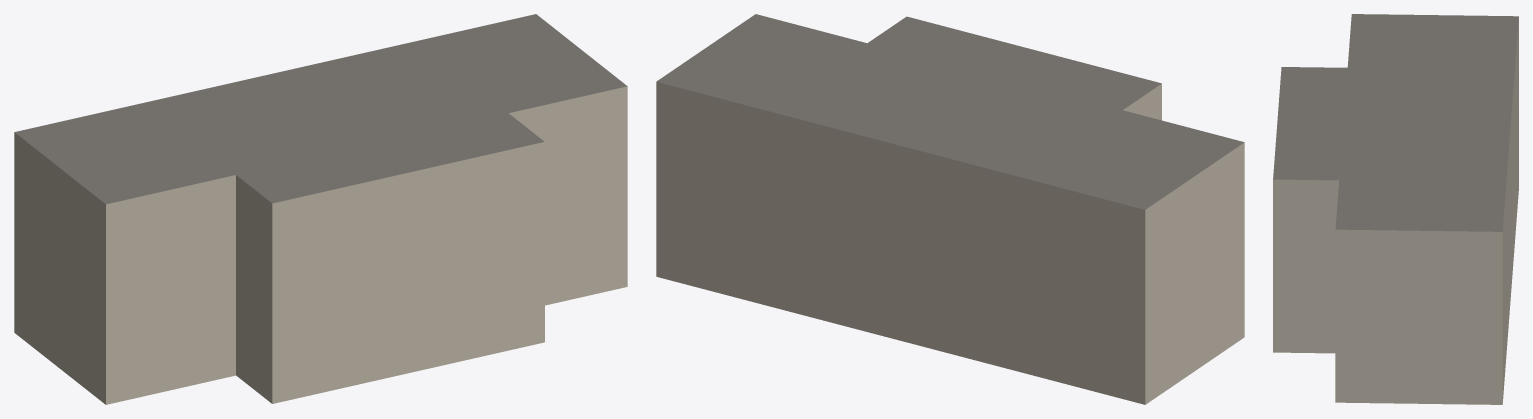
3 renders of one model, left to right at view 1: azimuth 30°, elevation 25°; view 2: azimuth 150°, elevation 25°; view 3: azimuth 270°, elevation 25°, orthographic. The views are drawn at different scales.
Visible parts, largest first — view 1: HP-w859488925; view 2: HP-w859488925; view 3: HP-w859488925.
Part boxes in pixels (left/top/right/bottom): HP-w859488925: left=14, top=14, right=627, bottom=404; HP-w859488925: left=656, top=14, right=1244, bottom=404; HP-w859488925: left=1273, top=14, right=1518, bottom=404.
Size of the model in its own units: 32.42 by 12 by 15.46.
